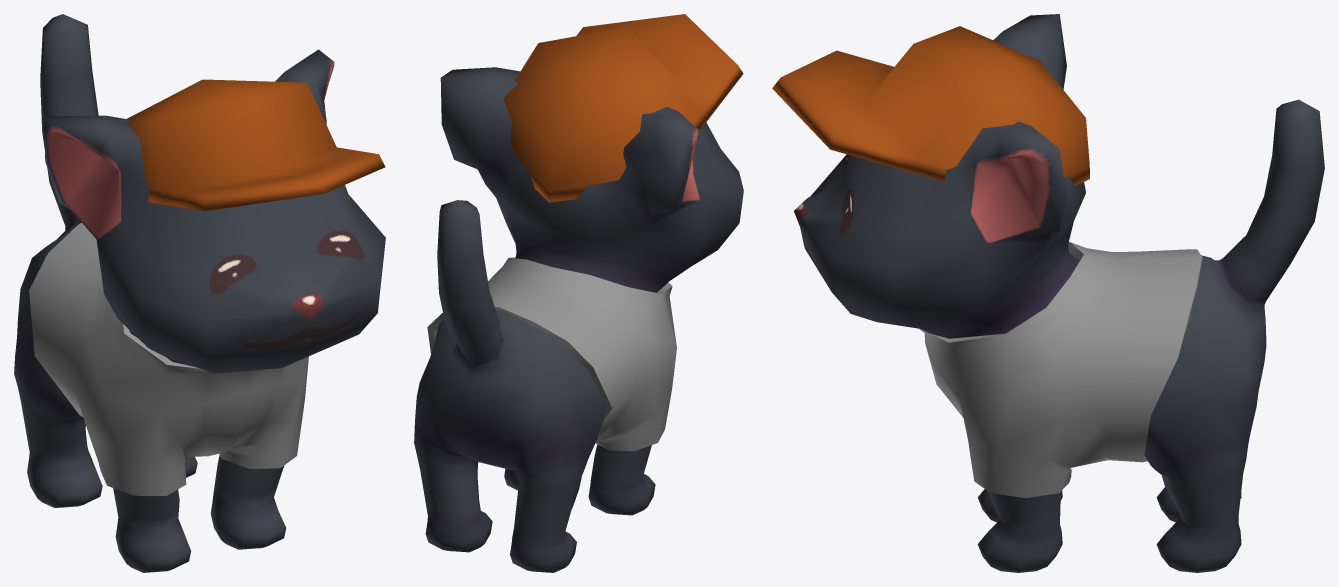
File: Leader Cat03.fbx
3 views of the same model, side by side, from view 1: azimuth 30°, elevation 25°; view 2: azimuth 150°, elevation 25°; view 3: azimuth 270°, elevation 25° (orthographic). The views are drawn at different scales.
Parts seen in each view (by area): view 1: Cat_Base002, tshirt001, Org_Cat_Hat; view 2: Cat_Base002, Org_Cat_Hat, tshirt001; view 3: Cat_Base002, tshirt001, Org_Cat_Hat.
Boxes of the visible parts, x1,y1,x2,y2 form: Cat_Base002: (14,14,385,572); tshirt001: (29,223,308,495); Org_Cat_Hat: (127,79,385,211); Cat_Base002: (414,67,743,572); Org_Cat_Hat: (503,14,743,202); tshirt001: (427,257,676,451); Cat_Base002: (794,14,1324,572); tshirt001: (919,242,1202,498); Org_Cat_Hat: (772,26,1089,185).
Bounding box in the file's own units: 1.75 × 2.95 × 2.91.
3 materials, 1 textured.
